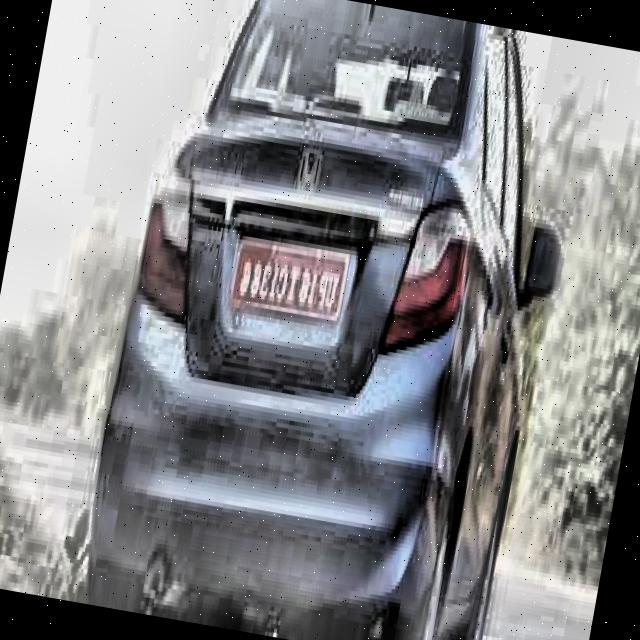license_plate: (228, 234, 351, 332)
